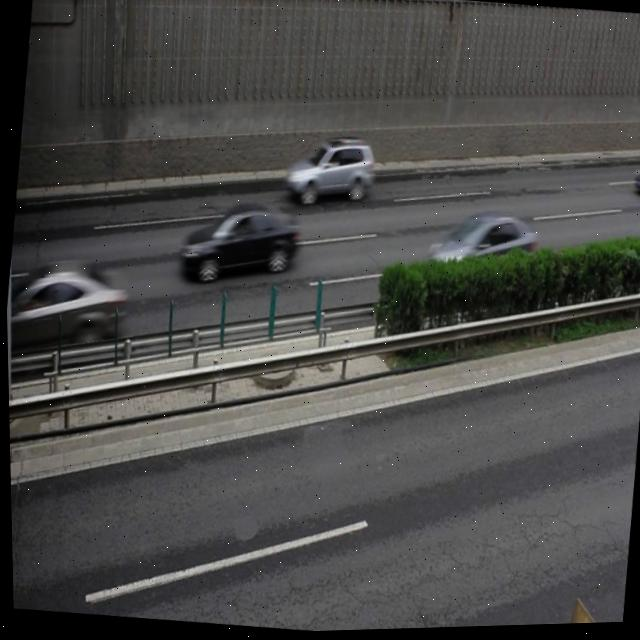car: (11, 258, 129, 359), (177, 200, 298, 286), (422, 207, 536, 292), (285, 136, 373, 211)
